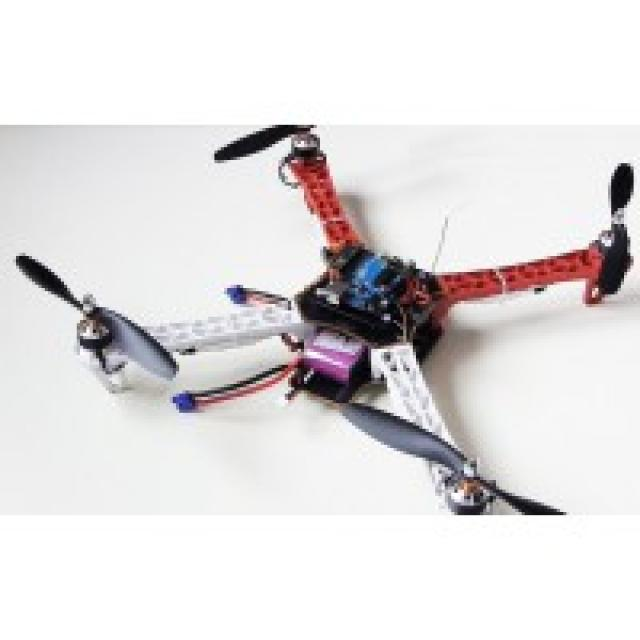drone: (0, 135, 640, 511)
